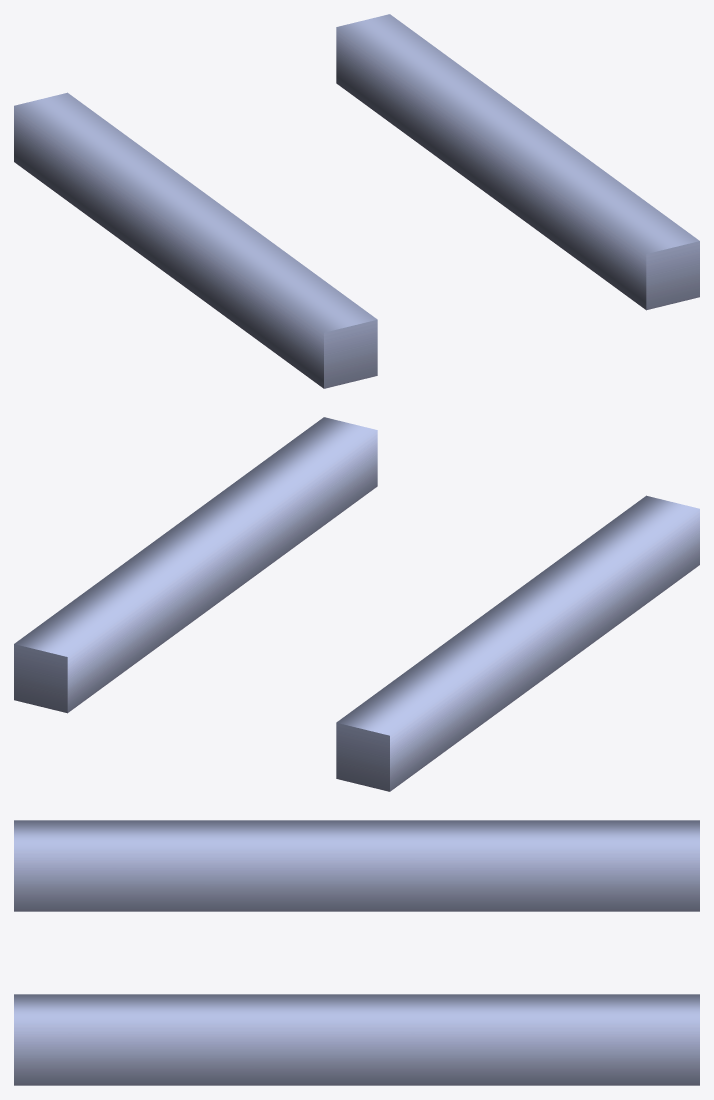
The model's file is kenney-train-spline-track.glb.
3 renders of one model, top to bottom at view 1: azimuth 30°, elevation 25°; view 2: azimuth 150°, elevation 25°; view 3: azimuth 270°, elevation 25°, orthographic. The views are drawn at different scales.
Visible parts, largest first — view 1: spline-track; view 2: spline-track; view 3: spline-track.
Part boxes in pixels (x1,y1,x2,y2): spline-track: (14,14,699,388); spline-track: (14,417,699,791); spline-track: (14,820,699,1085).
Bounding box in the file's own units: 0.7 × 0.1 × 1.
Materials: 1 (1 with a texture image).
